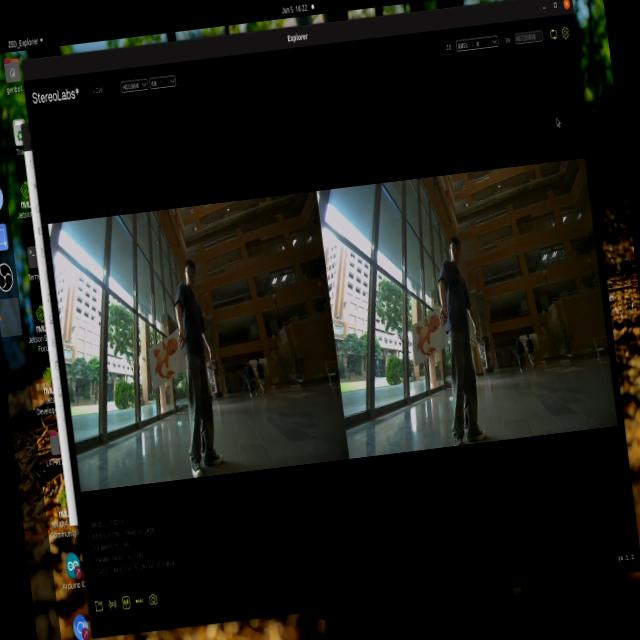red: (132, 334, 186, 386), (411, 306, 444, 368)
